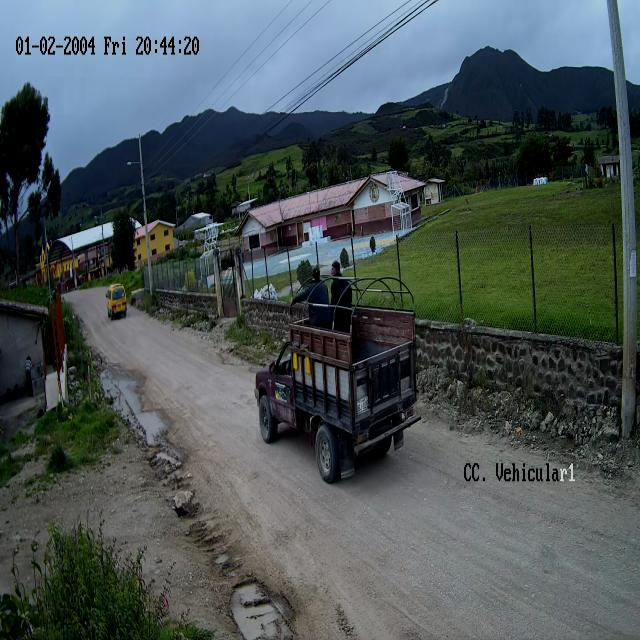CMT: (255, 300, 418, 486)
